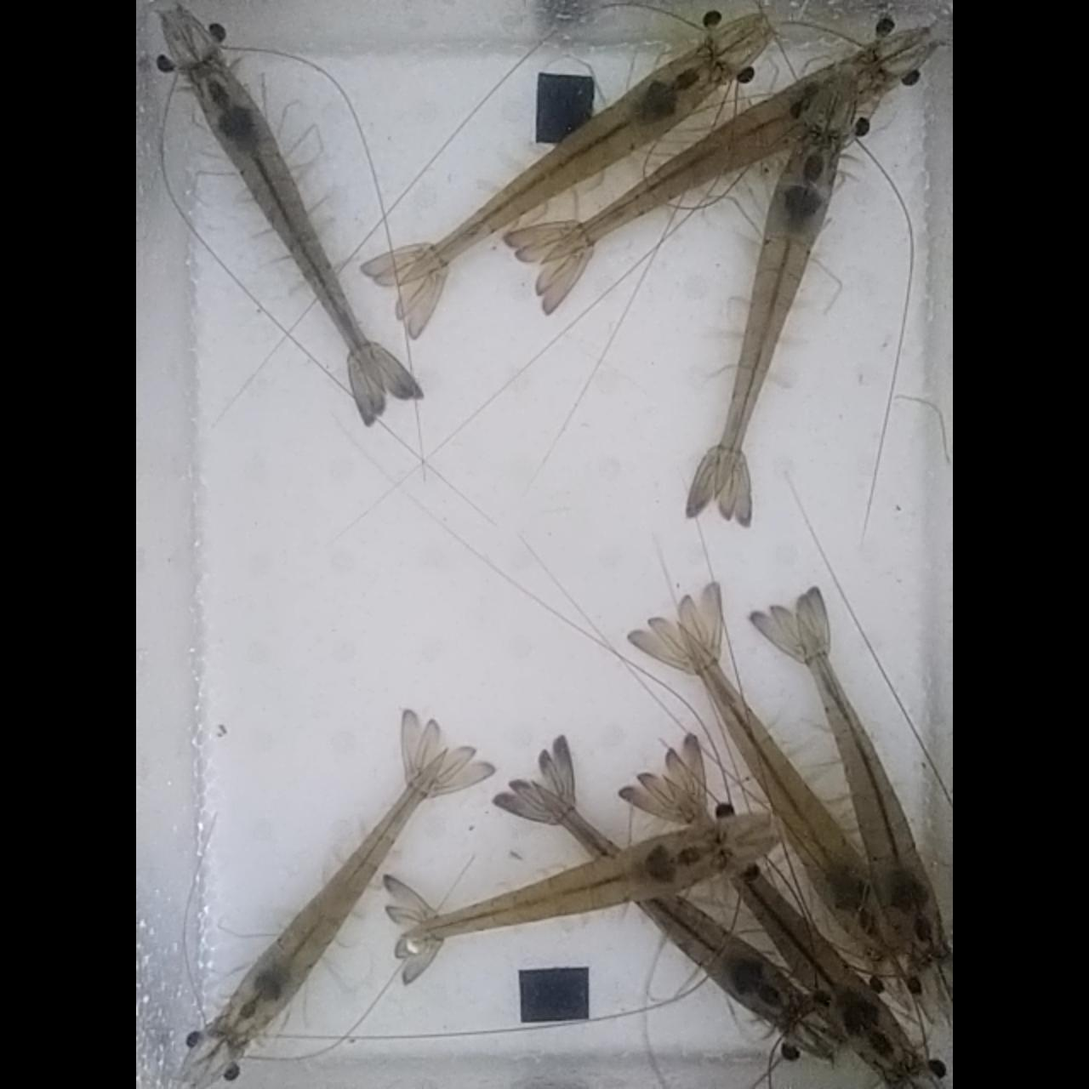box: (538, 73, 594, 141), (521, 966, 589, 1021)
top_shrimp: (398, 48, 723, 284), (538, 55, 882, 261), (669, 774, 905, 1064), (682, 626, 892, 946), (533, 781, 798, 1026), (223, 750, 446, 1040), (191, 61, 385, 388), (793, 597, 939, 947), (718, 134, 839, 487), (412, 832, 710, 936)
